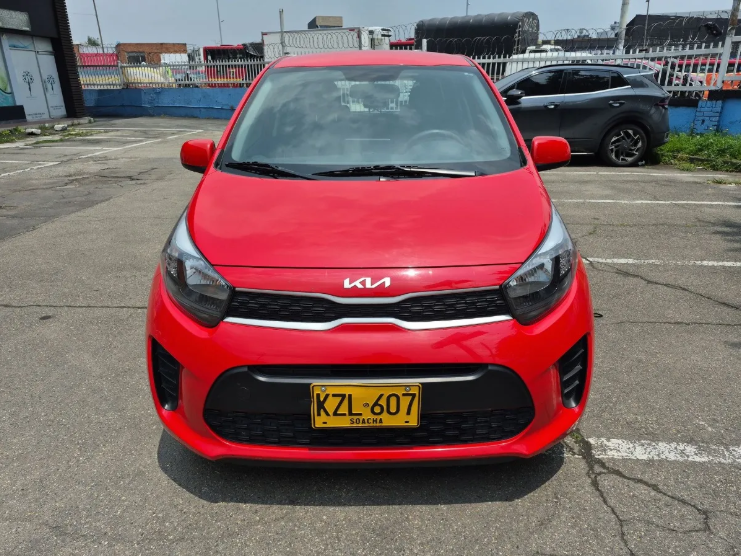placa: (312, 384, 418, 426)
